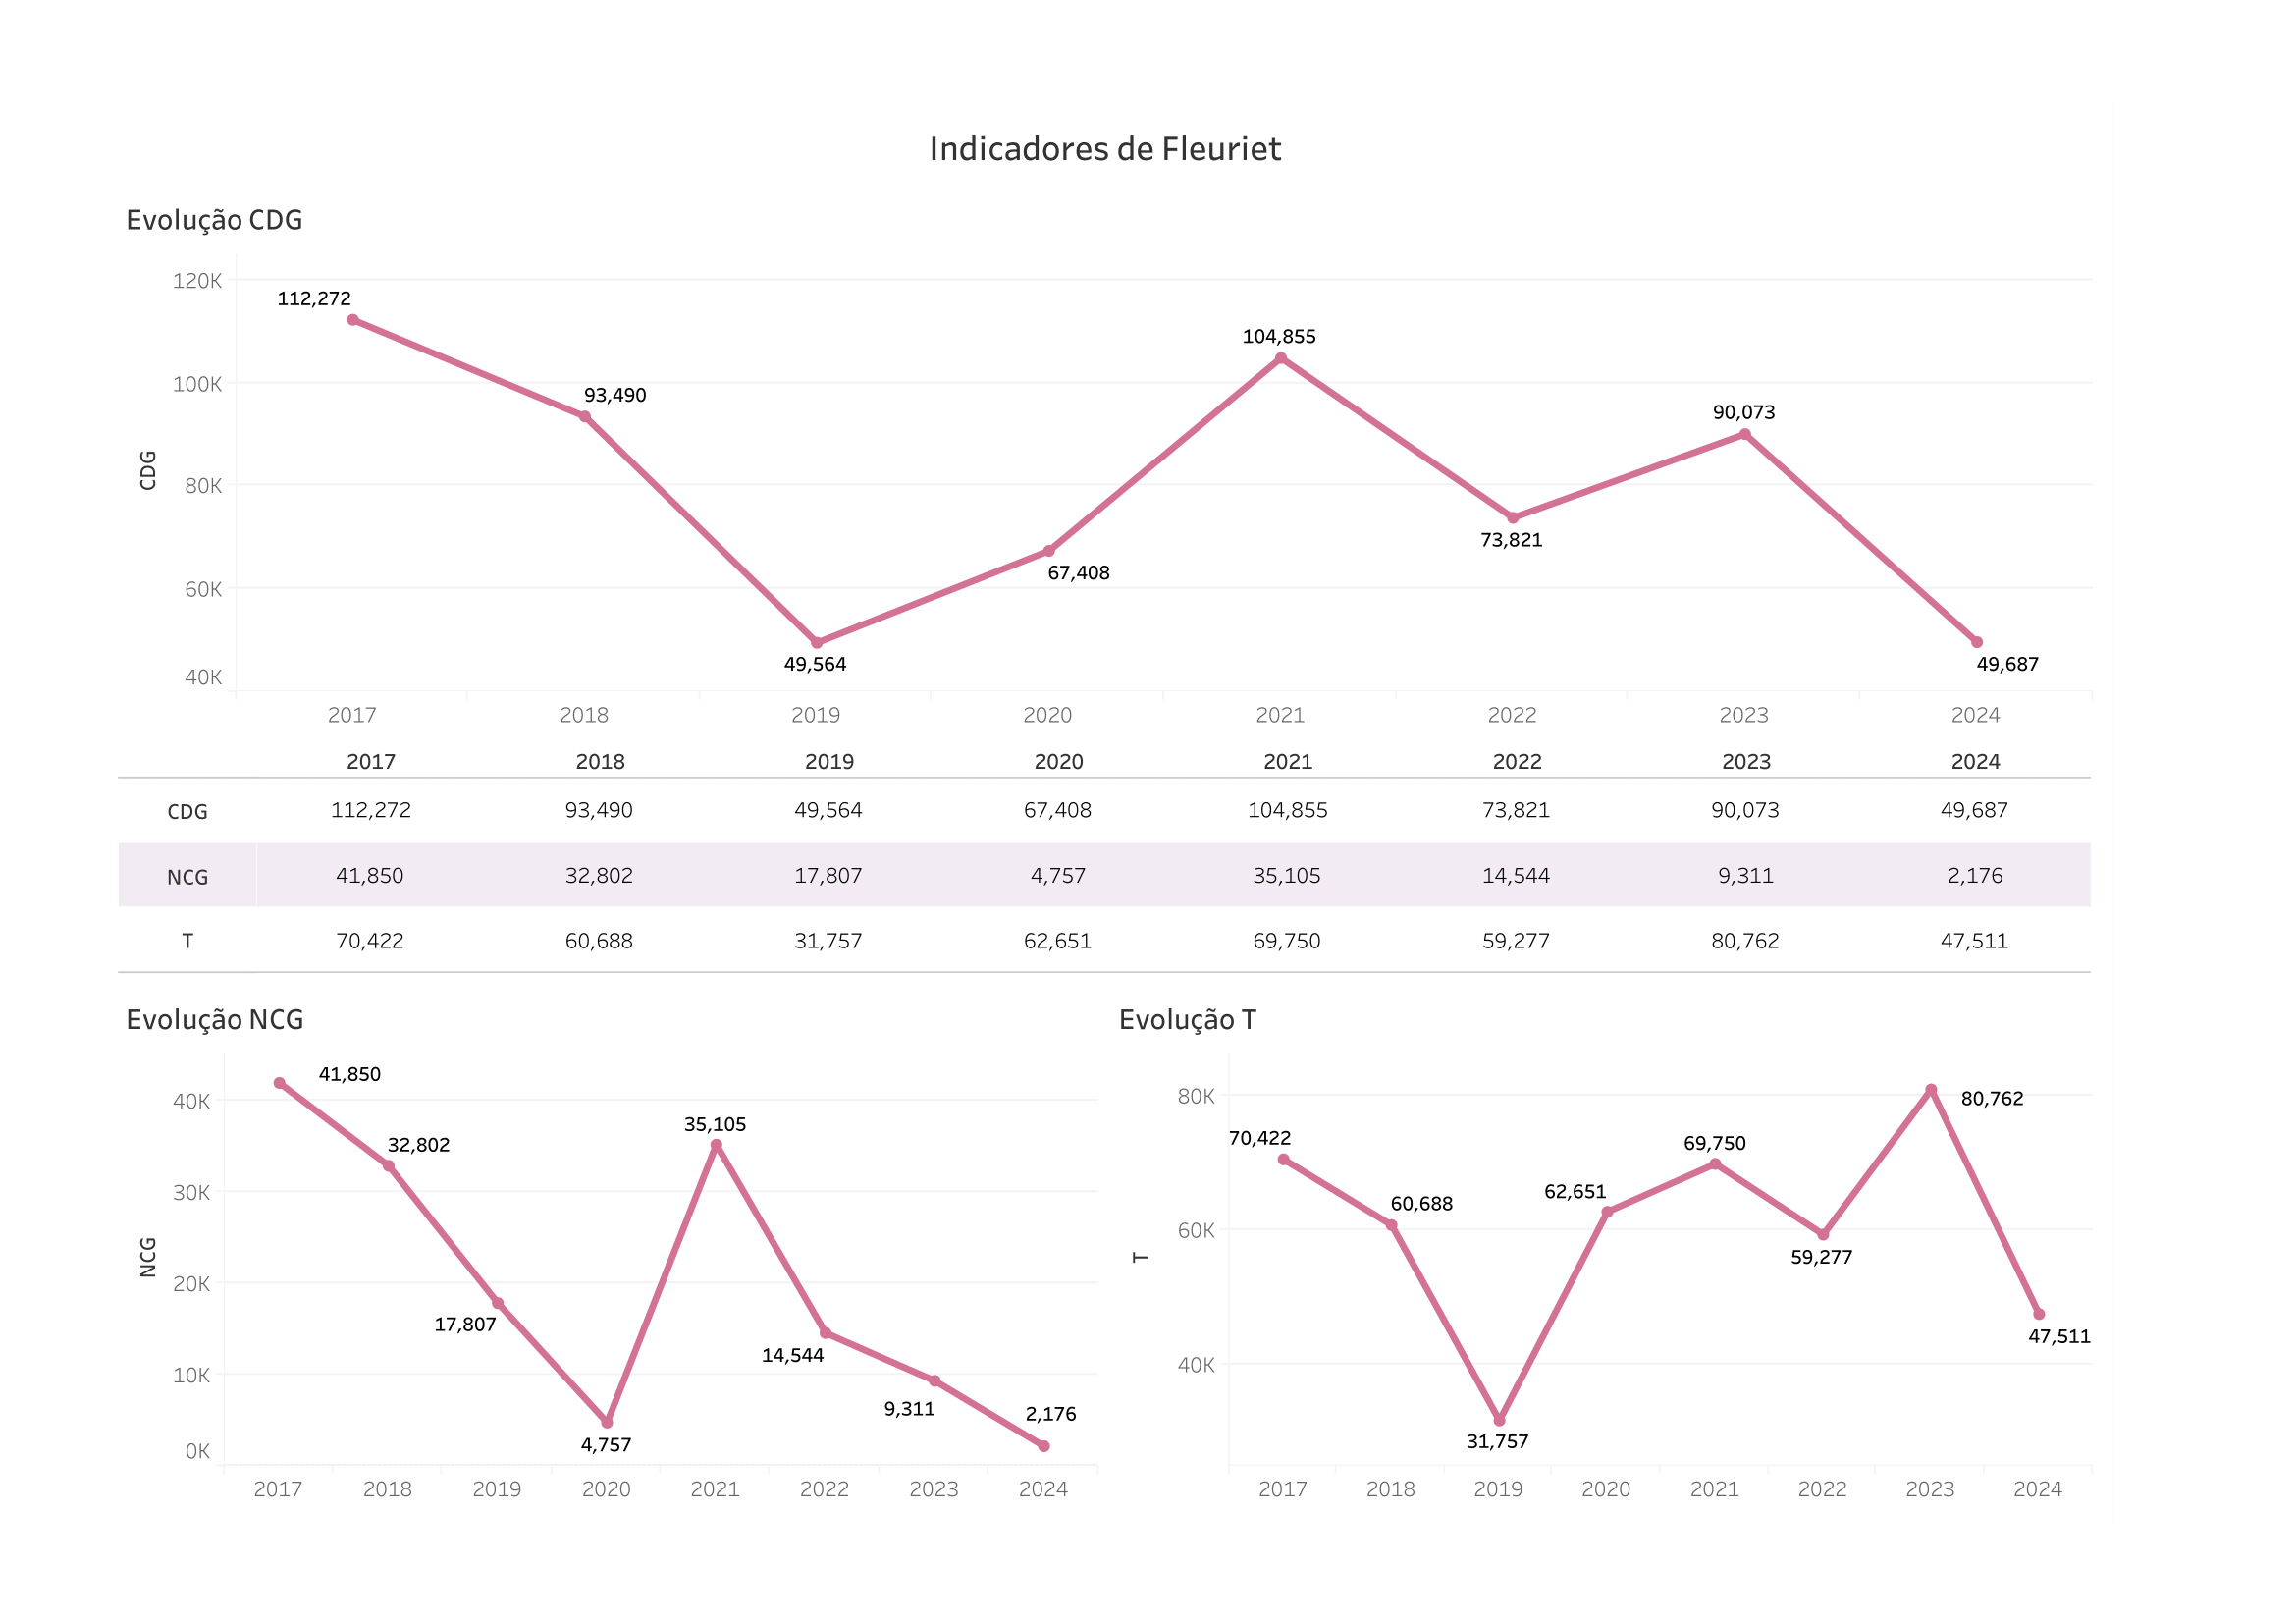

Layout of this report page (visuals, bound fields, positions):
{"tool":"tableau","page":{"name":"Fleuriet","canvas":[1169,827],"ordinal":2},"visuals":[{"type":"title","box":[8,8,1153,40]},{"type":"worksheet","title":"Evolução CDG","mark":"Line","rows":["CDG"],"cols":["Ano"],"box":[8,48,1153,322]},{"type":"worksheet","title":"Tabela Ind. Fleuriet","mark":"Automatic","cols":["Ano"],"box":[8,370,1153,142]},{"type":"worksheet","title":"Evolução NCG","mark":"Line","rows":["NCG"],"cols":["Ano"],"box":[8,512,576.5,307]},{"type":"worksheet","title":"Evolução T","mark":"Line","rows":["T"],"cols":["Ano"],"box":[584.5,512,576.5,307]}]}

Visuals, with their boxes in screenshot pixels (x1, y1, x2, y2), scaled from the page's 1169x827 canvas onto the 2296x1623 screenshot:
title: l=16, t=16, r=2280, b=94
"Evolução CDG" worksheet (Line marks): l=16, t=94, r=2280, b=727
"Tabela Ind. Fleuriet" worksheet: l=16, t=727, r=2280, b=1004
"Evolução NCG" worksheet (Line marks): l=16, t=1004, r=1148, b=1607
"Evolução T" worksheet (Line marks): l=1148, t=1004, r=2280, b=1607
